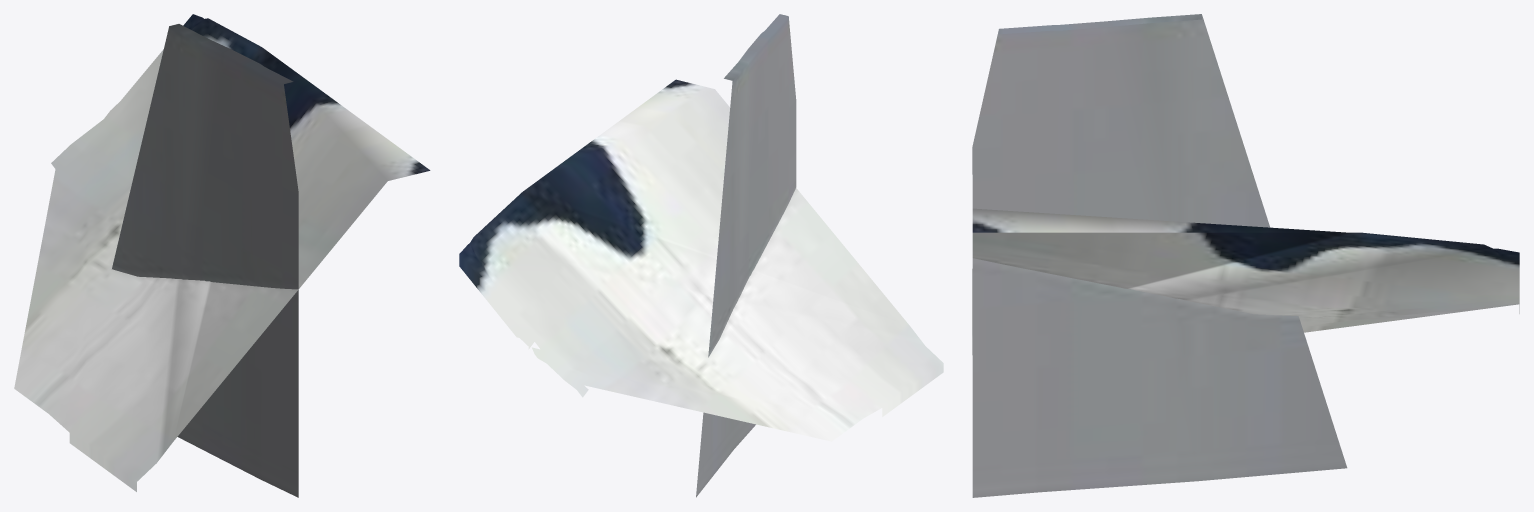
The picture shows the model from 3 angles, left to right: view 1: azimuth 30°, elevation 25°; view 2: azimuth 150°, elevation 25°; view 3: azimuth 270°, elevation 25°; orthographic projection. The views are drawn at different scales.
Visible parts, largest first — view 1: 30436272704370427411_1; view 2: 30436272704370427411_1; view 3: 30436272704370427411_1.
Part boxes in pixels (box(x1,y1,x2,y2)): 30436272704370427411_1: box(14, 14, 430, 497); 30436272704370427411_1: box(459, 14, 943, 497); 30436272704370427411_1: box(972, 14, 1519, 497).
Bounding box in the file's own units: 13.65 × 18.03 × 19.13.
Materials: 1 (1 with a texture image).
